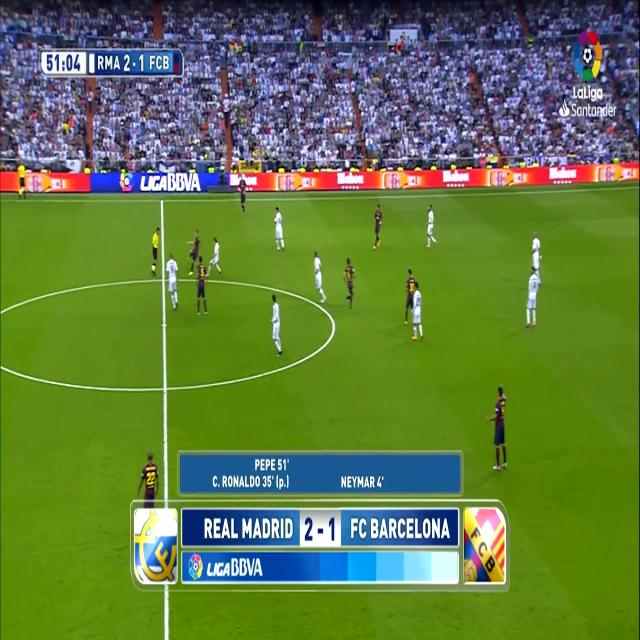halfcircle_bottom: (158, 372, 172, 403)
halfcircle_top: (158, 268, 168, 290)
midline_bottom_intersection: (160, 486, 172, 506)
midline_top_intersection: (158, 194, 167, 208)
